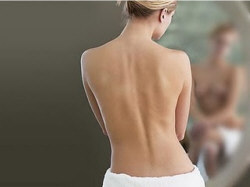Humano: (79, 1, 206, 187)
